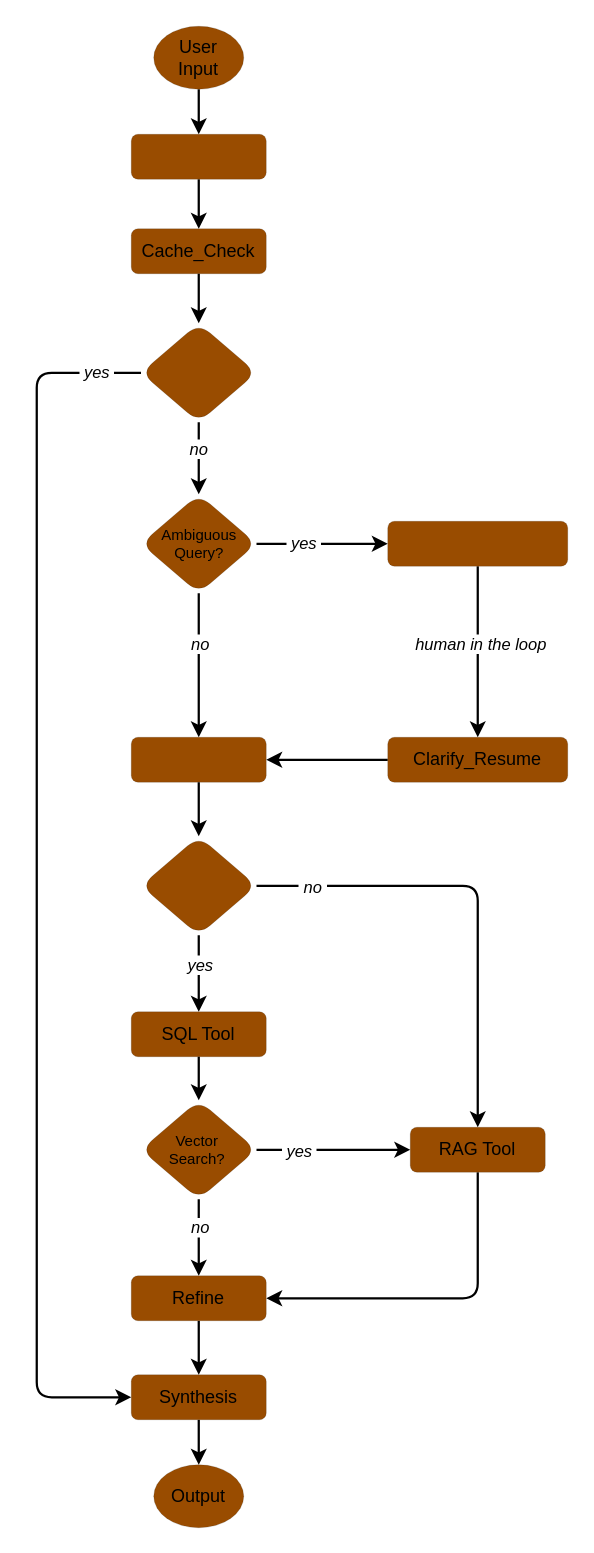
Image size: 594x1553. Some labels were removed from this diagram. The centre of each missing label's shape, as x and y in pixels:
"Cache Hit?" goes at point (198, 372).
"Clarify_Generate" goes at point (477, 543).
"Classify" goes at point (198, 759).
"Requires Database?" goes at point (198, 885).
"Rewrite" goes at point (198, 156).
